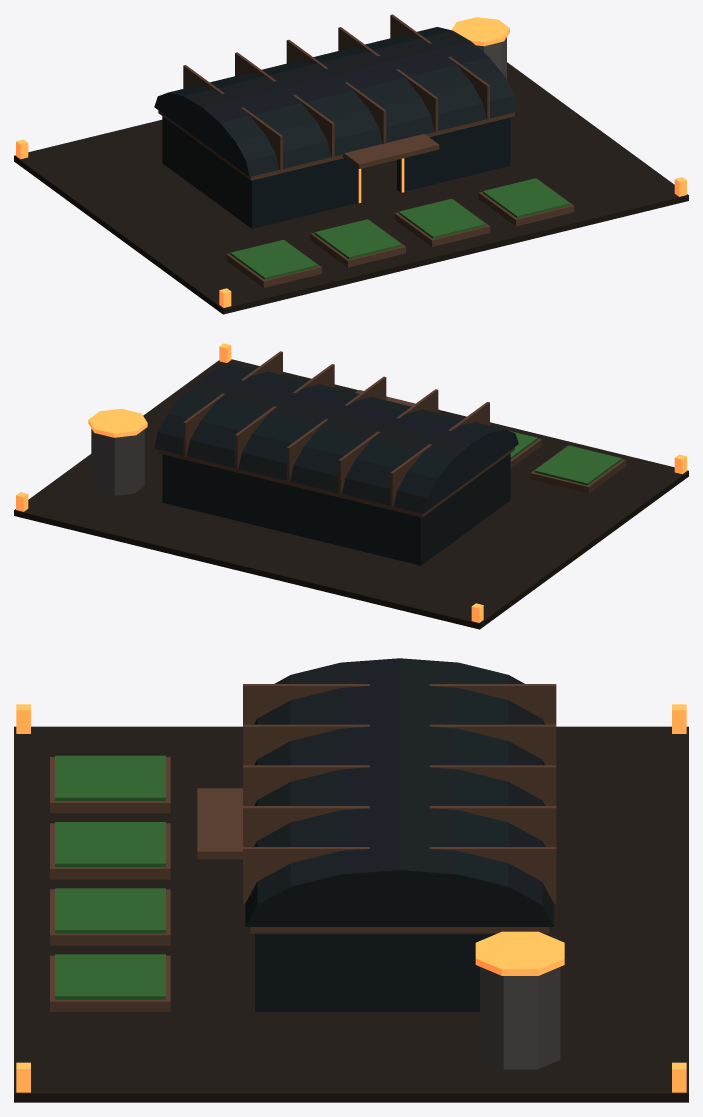
File: shaddai_dist_volcano_farm_v01.glb
3 renders of one model, top to bottom at view 1: azimuth 30°, elevation 25°; view 2: azimuth 150°, elevation 25°; view 3: azimuth 270°, elevation 25°, orthographic. The views are drawn at different scales.
Visible parts, largest first — view 1: shaddai_dist_volcano_farm; view 2: shaddai_dist_volcano_farm; view 3: shaddai_dist_volcano_farm.
Boxes of the visible parts, box(x1,y1,x2,y2) form: shaddai_dist_volcano_farm: box(14, 14, 688, 314); shaddai_dist_volcano_farm: box(14, 343, 688, 629); shaddai_dist_volcano_farm: box(14, 658, 688, 1102).
Bounding box in the file's own units: 36 × 7.1 × 28.
